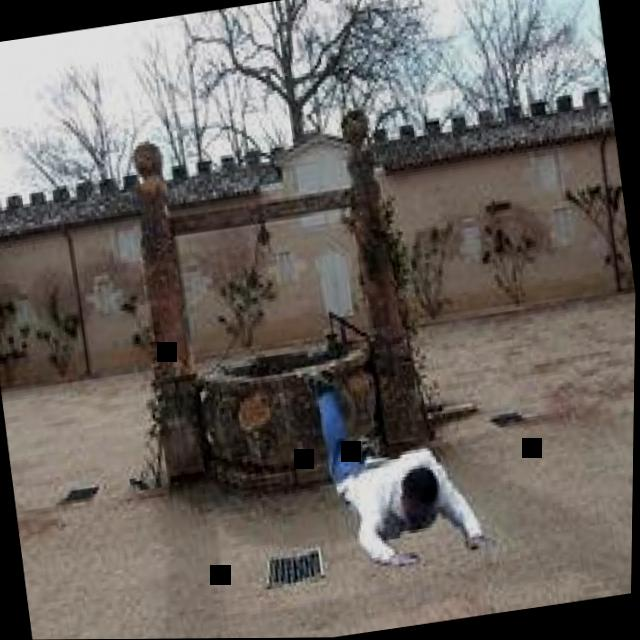Fall-Detected: (283, 311, 508, 583)
